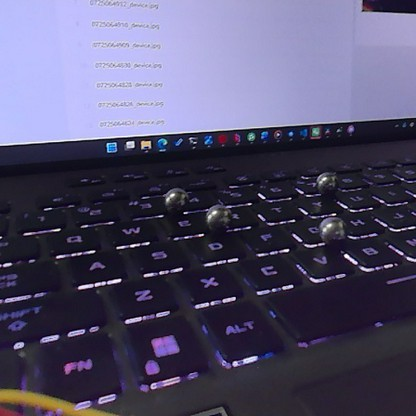ironball: (202, 200, 235, 232), (317, 215, 349, 245), (160, 185, 191, 215), (312, 169, 339, 196)
